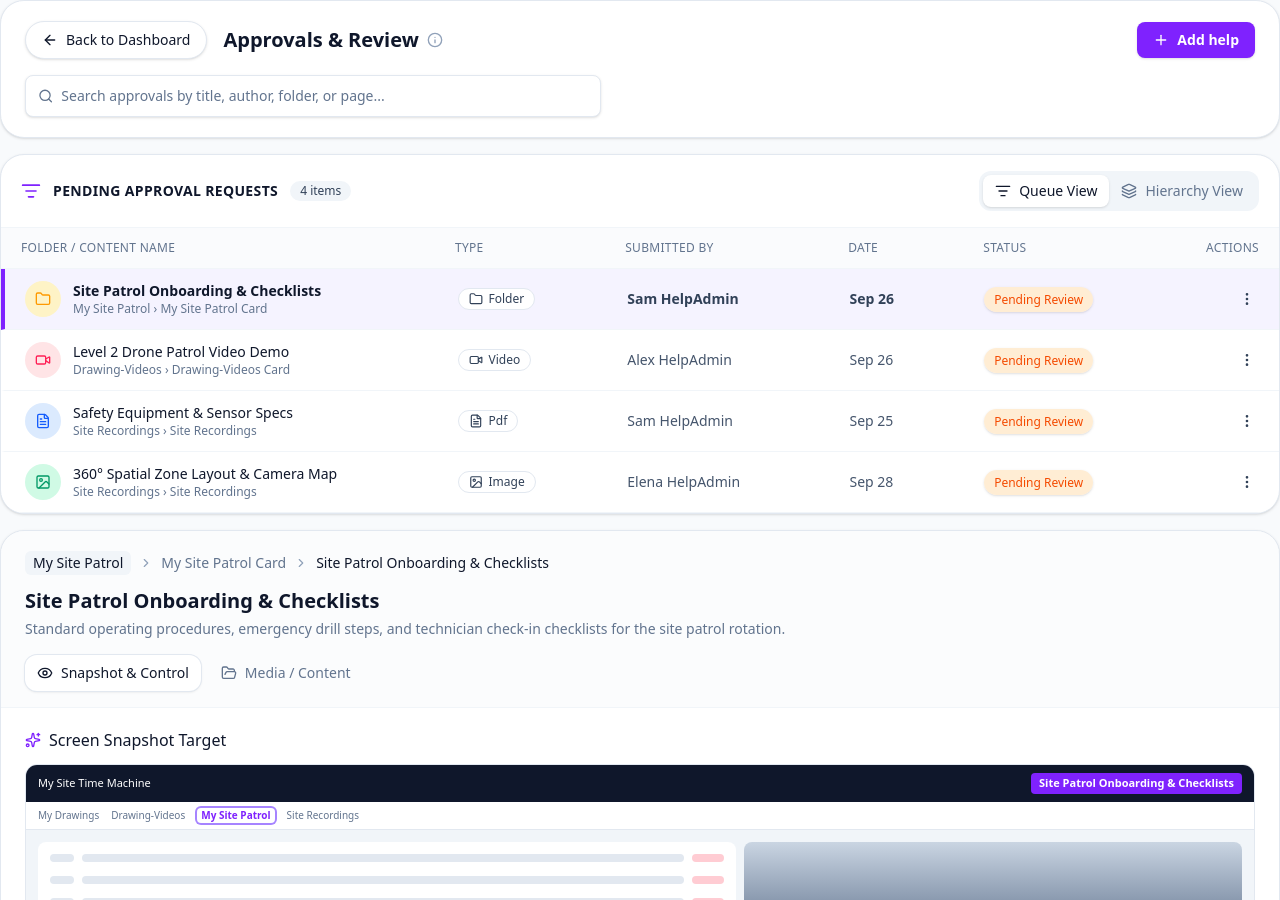
Test: ApprovalsWorkspace › the detail pane switches between Snapshot & Control and Media / Content
Expected: the heading "Screen Snapshot Target" is shown, [25,729,226,751]
Click the tab "Media / Content". click: (286, 673)
box: [209,655,363,691]
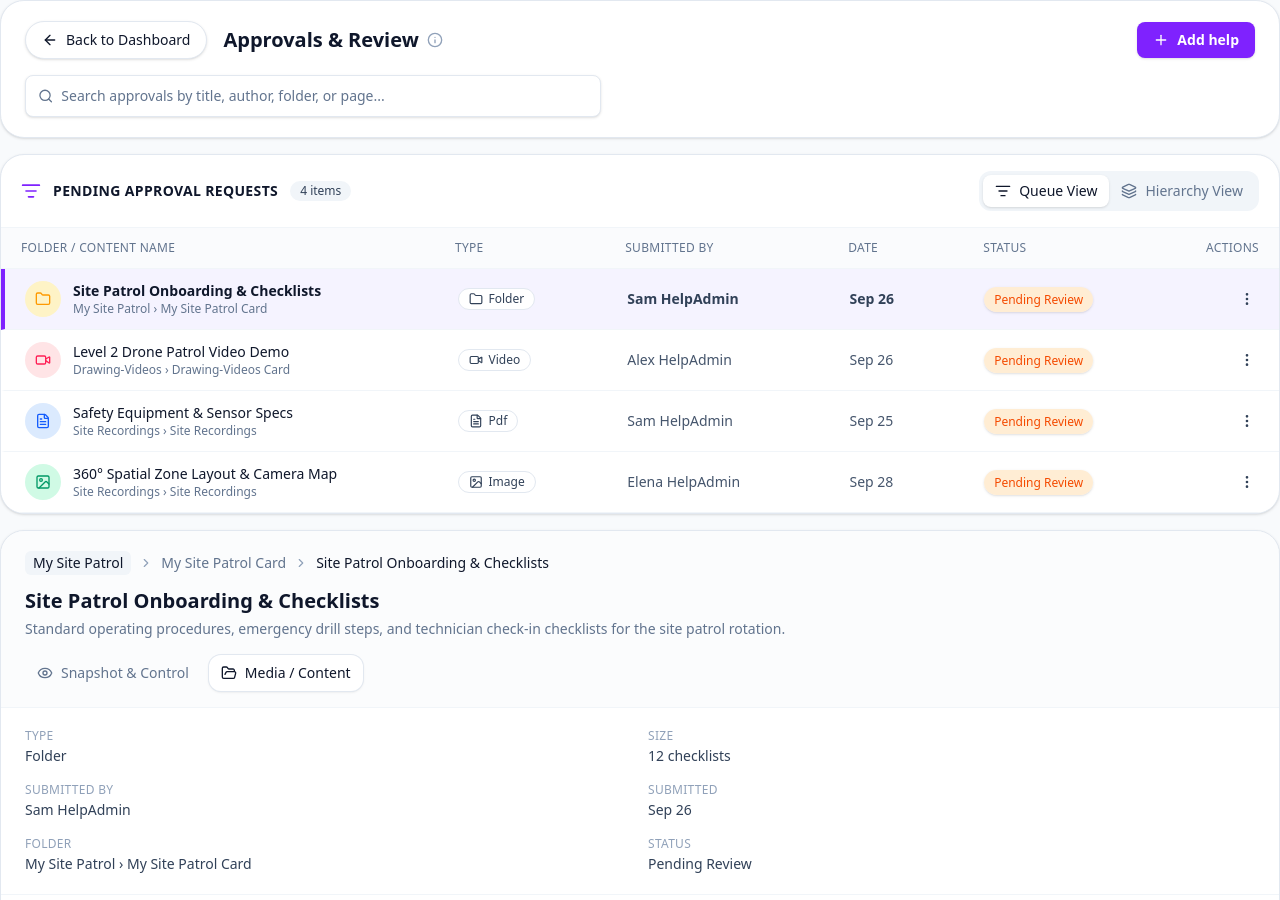
Expected: the text "12 checklists" is shown, [648,746,731,765]
